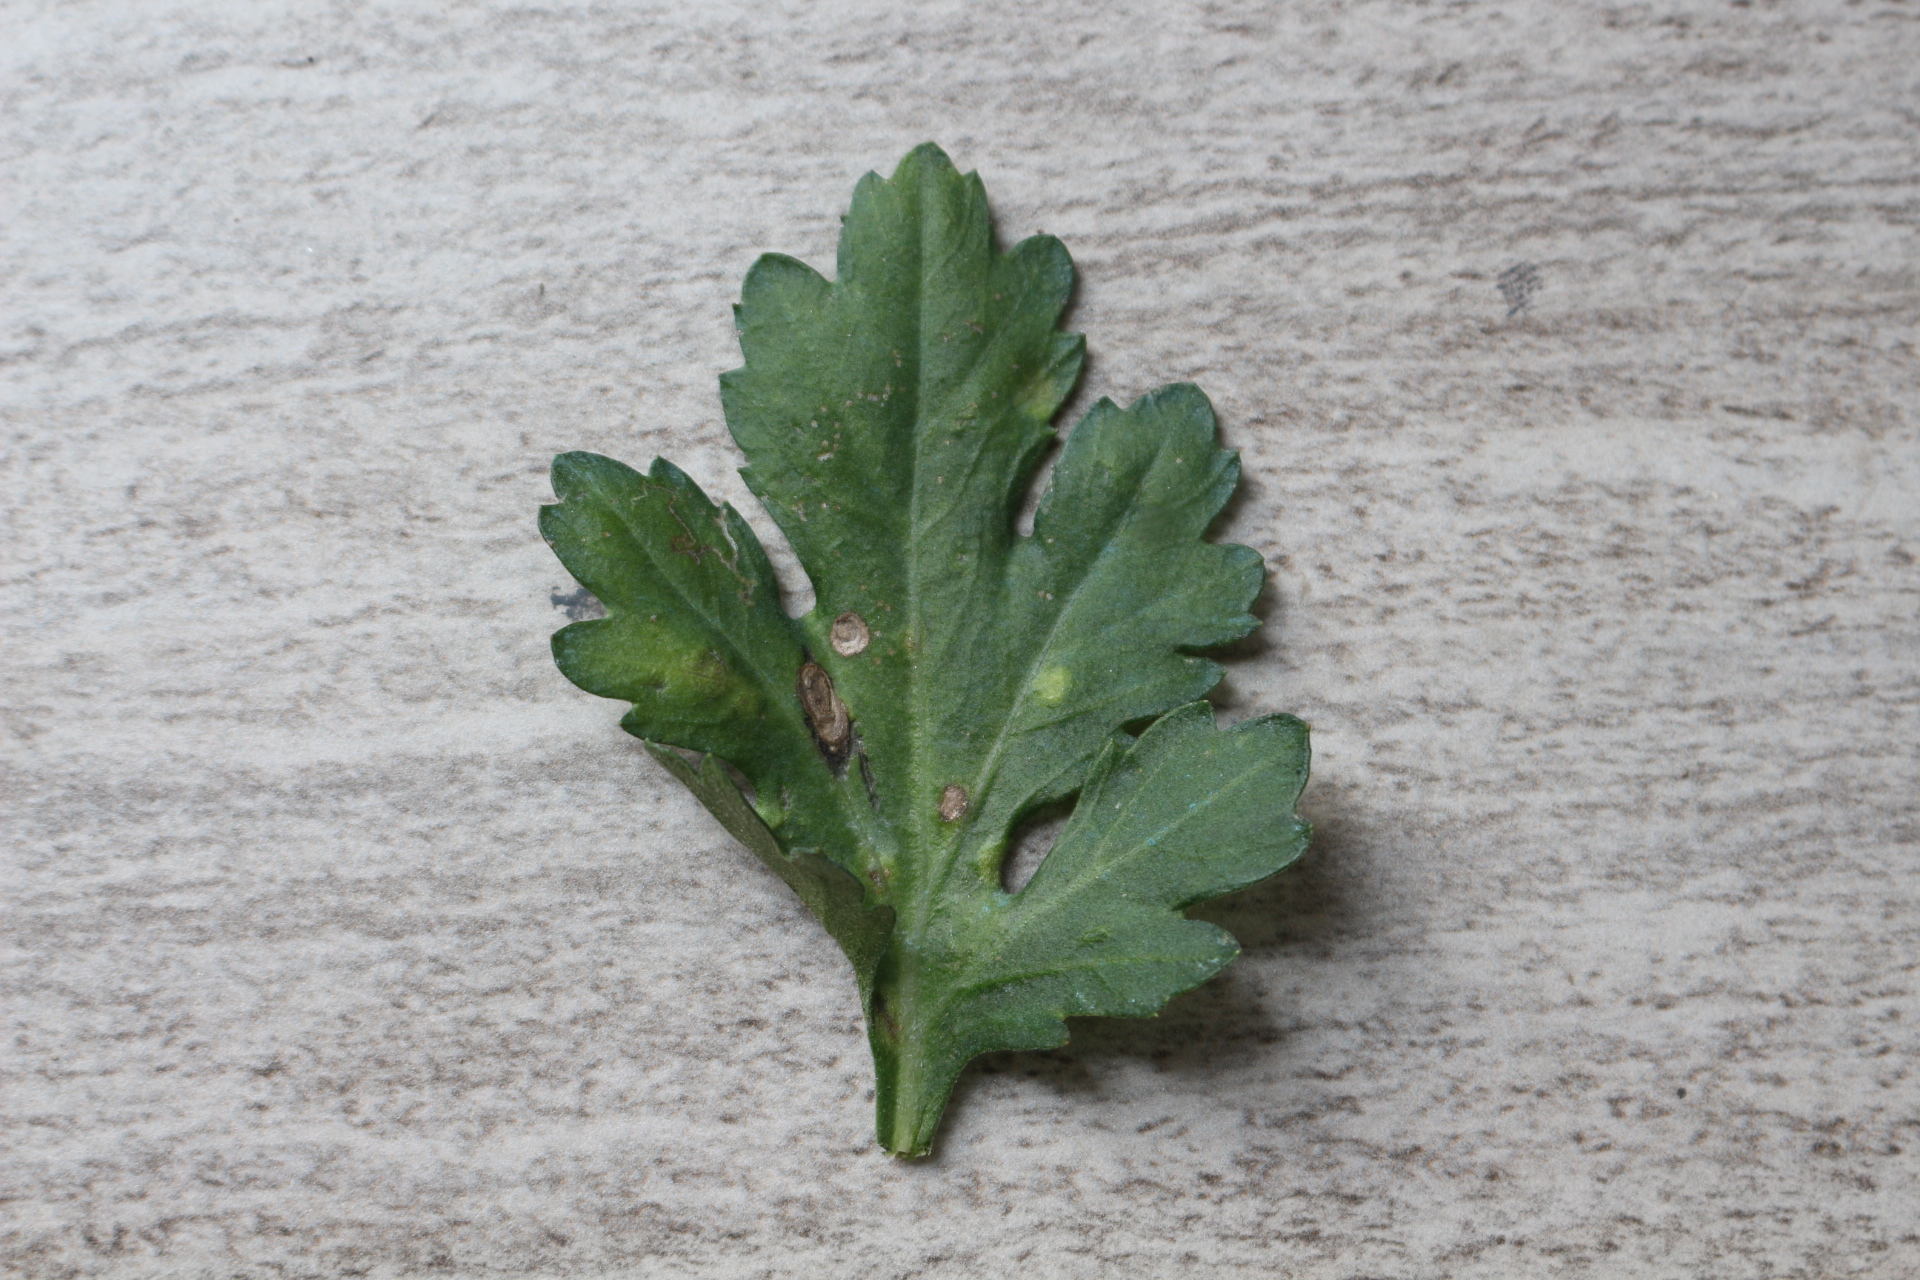namden: (824, 607, 871, 661), (934, 779, 976, 827)
namsung: (1029, 663, 1074, 711)
